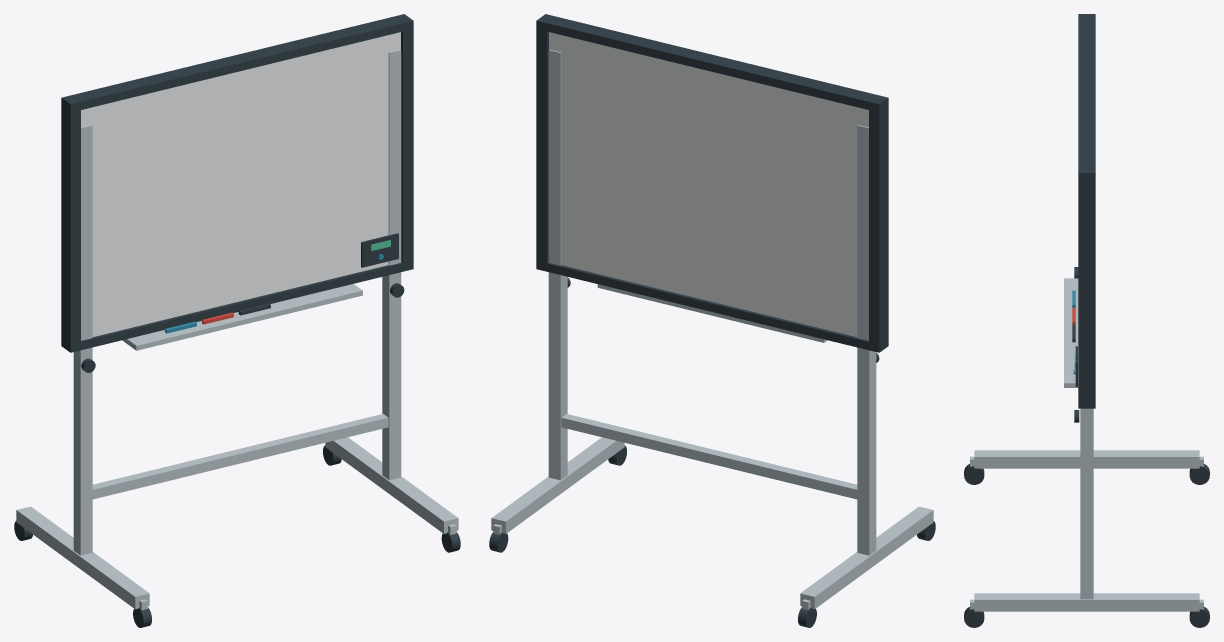
Rendered from electronic_whiteboard.glb.
3 views of the same model, side by side, from view 1: azimuth 30°, elevation 25°; view 2: azimuth 150°, elevation 25°; view 3: azimuth 270°, elevation 25° (orthographic). The views are drawn at different scales.
Visible parts, largest first — view 1: writing_panel, stand_upright (×2), horizontal_frame (×2), side_frame (×2), stand_foot (×2), stand_crossbar, pen_tray, control_panel; view 2: writing_panel, stand_upright (×2), horizontal_frame (×2), side_frame (×2), stand_foot (×2), stand_crossbar, pen_tray; view 3: stand_foot (×2), side_frame, horizontal_frame, stand_upright, pen_tray.
Boxes of the visible parts, box(x1,y1,x2,y2) form: writing_panel: box(81, 32, 400, 336); stand_upright (×2): box(73, 49, 401, 555); horizontal_frame (×2): box(62, 16, 413, 352); side_frame (×2): box(61, 14, 413, 352); stand_foot (×2): box(16, 437, 458, 609); stand_crossbar: box(92, 414, 388, 499); pen_tray: box(122, 284, 362, 350); control_panel: box(361, 233, 398, 267); writing_panel: box(549, 32, 868, 336); stand_upright (×2): box(548, 49, 876, 555); horizontal_frame (×2): box(536, 14, 888, 352); side_frame (×2): box(536, 14, 888, 352); stand_foot (×2): box(491, 437, 933, 609); stand_crossbar: box(561, 414, 857, 499); pen_tray: box(597, 284, 827, 342); stand_foot (×2): box(974, 450, 1199, 611); side_frame: box(1078, 168, 1095, 408); horizontal_frame: box(1078, 14, 1095, 179); stand_upright: box(1080, 408, 1093, 599); pen_tray: box(1064, 278, 1078, 387).
Bounding box in the file's own units: 1.3 × 1.76 × 0.85.
